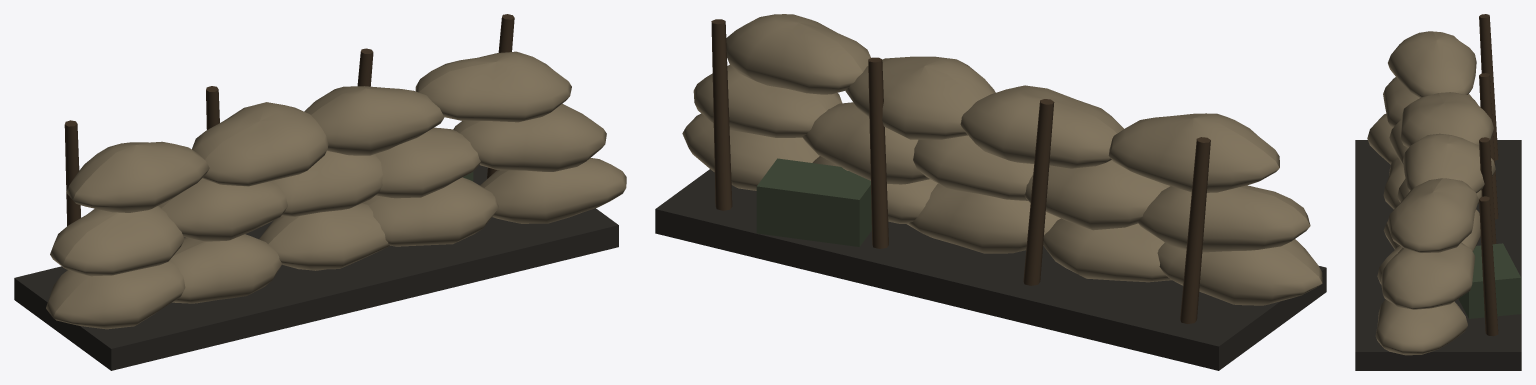
Rendered from sandbag_bunker.glb.
The picture shows the model from 3 angles, left to right: view 1: azimuth 30°, elevation 25°; view 2: azimuth 150°, elevation 25°; view 3: azimuth 270°, elevation 25°; orthographic projection. The views are drawn at different scales.
Bounding box in the file's own units: 3.8 × 1.18 × 1.12.
